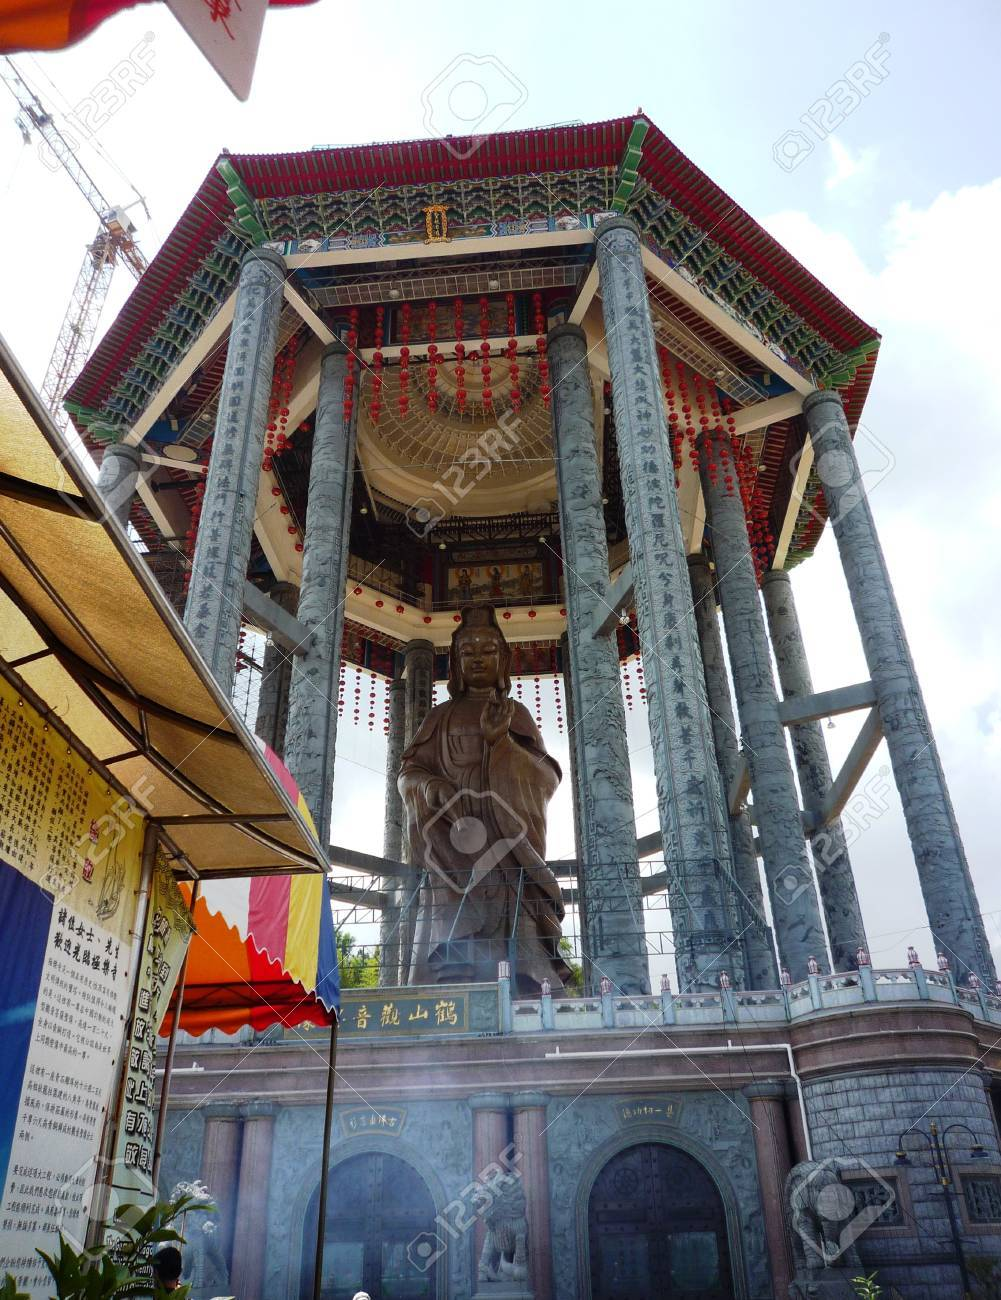Buddhist Temple: (53, 128, 940, 965)
